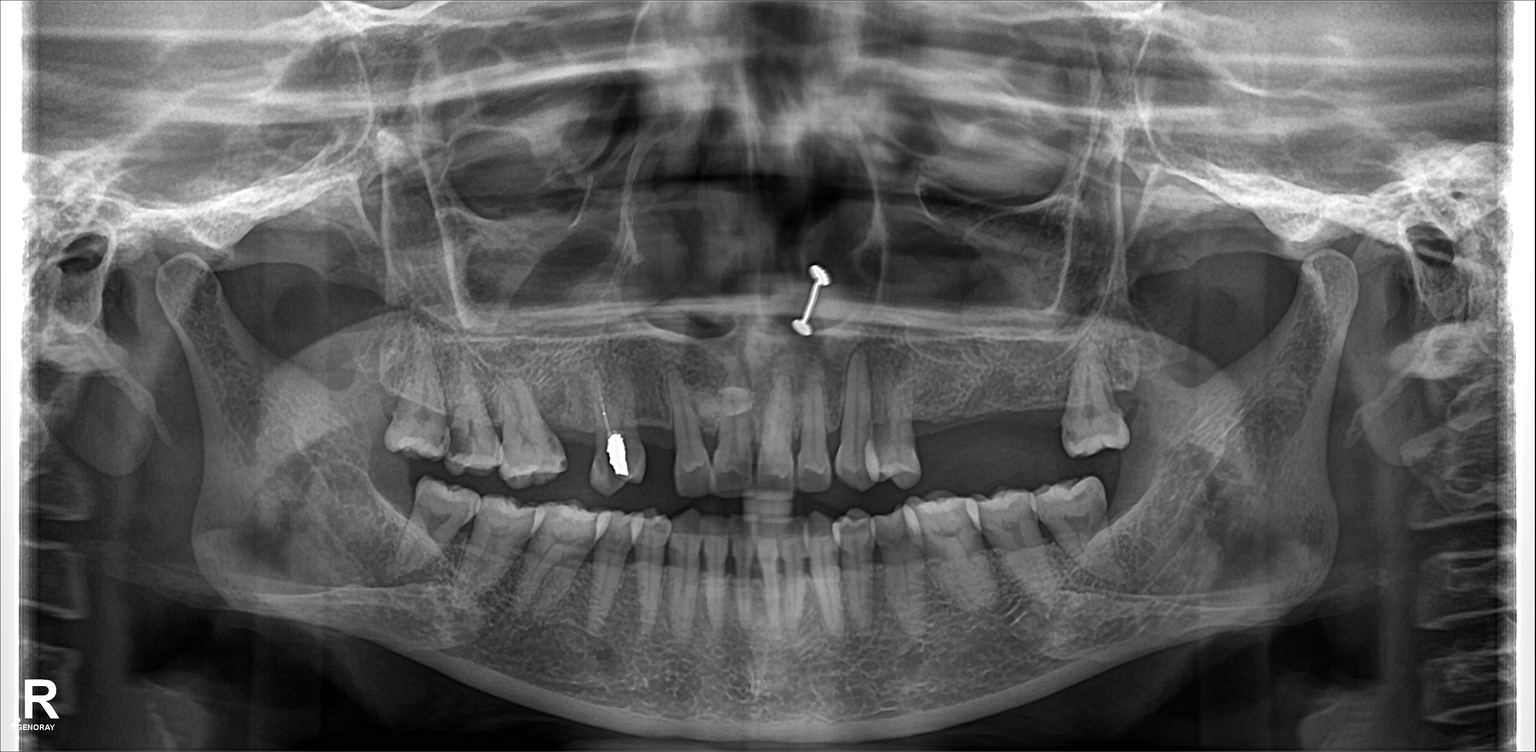Dental Caries: (443, 410, 481, 466)
Endodontically Treated Tooth: (588, 385, 644, 493)
Missing Tooth: (549, 382, 594, 484), (358, 471, 408, 560), (985, 359, 1025, 466), (641, 387, 679, 481), (953, 376, 985, 480), (1108, 456, 1150, 533), (1030, 361, 1062, 457), (922, 374, 951, 475)
